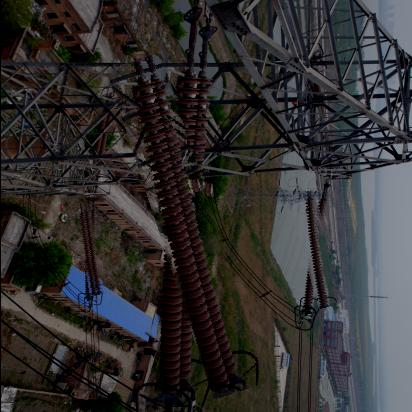insulator: (133, 53, 242, 400), (295, 192, 338, 310), (80, 205, 102, 298)
